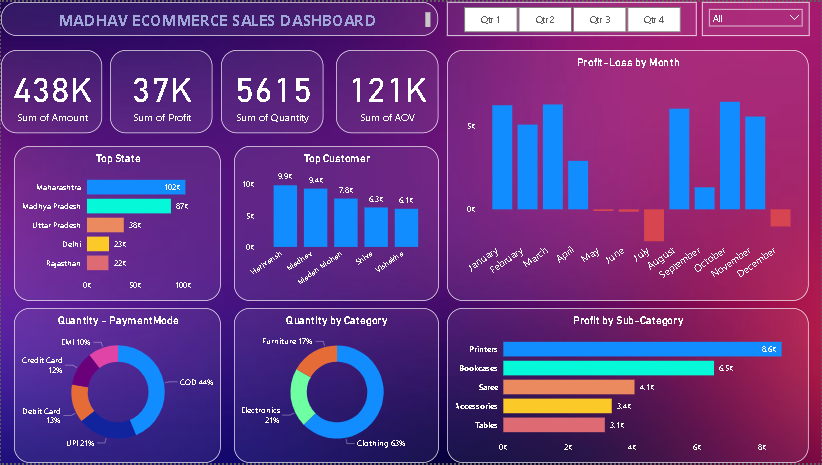

This screenshot's page, from the dashboard's own definition file:
{"tool":"powerbi","page":{"name":"Page 1","canvas":[1280,720],"ordinal":0},"visuals":[{"type":"textbox","box":[0,0,682.5,52.5],"z":1},{"type":"columnChart","title":"Profit-Loss by Month","fields":{"Category":["Orders.Order Date.Variation.Date Hierarchy.Month"],"Y":["Details.Profit"]},"box":[696.7,75,565,391.7],"z":2},{"type":"barChart","fields":{"Category":["Details.Sub-Category"],"Y":["Details.Profit"]},"box":[696.7,478.3,565,241.7],"z":3},{"type":"donutChart","fields":{"Category":["Details.Category"],"Y":["Details.Quantity"]},"box":[363.3,478.3,320,241.7],"z":4},{"type":"donutChart","fields":{"Y":["Details.Quantity"],"Category":["Details.PaymentMode"]},"box":[20,478.3,323.3,241.7],"z":5},{"type":"card","fields":{"Values":["Details.Amount"]},"box":[0,75,157.5,130],"z":6},{"type":"card","fields":{"Values":["Details.AOV"]},"box":[523.3,75,160,130],"z":7},{"type":"card","fields":{"Values":["Details.Profit"]},"box":[170,75,160,130],"z":8},{"type":"card","fields":{"Values":["Details.Quantity"]},"box":[343.3,75,160,130],"z":9},{"type":"barChart","fields":{"Category":["Orders.State"],"Y":["Details.Amount"]},"box":[20,225,323.3,241.7],"z":10},{"type":"columnChart","fields":{"Category":["Orders.CustomerName"],"Y":["Details.Amount"]},"box":[363.3,225,320,241.7],"z":11},{"type":"slicer","fields":{"Values":["Orders.Order Date.Variation.Date Hierarchy.Quarter"]},"box":[697.1,0,390,52.9],"z":12},{"type":"slicer","fields":{"Values":["Orders.State"]},"box":[1095,0,167.5,52.5],"z":13}]}

Visuals, with their boxes in screenshot pixels (x1, y1, x2, y2), scaled from the page's 1280x720 canvas onto the 822x465 screenshot:
textbox: l=0, t=0, r=438, b=34
"Profit-Loss by Month" columnChart: l=447, t=48, r=810, b=301
barChart - Details.Sub-Category x Details.Profit: l=447, t=309, r=810, b=464
donutChart - Details.Category x Details.Quantity: l=233, t=309, r=439, b=464
donutChart - Details.Quantity x Details.PaymentMode: l=13, t=309, r=220, b=464
card - Details.Amount: l=0, t=48, r=101, b=132
card - Details.AOV: l=336, t=48, r=439, b=132
card - Details.Profit: l=109, t=48, r=212, b=132
card - Details.Quantity: l=220, t=48, r=323, b=132
barChart - Orders.State x Details.Amount: l=13, t=145, r=220, b=301
columnChart - Orders.CustomerName x Details.Amount: l=233, t=145, r=439, b=301
slicer - Orders.Order Date.Variation.Date Hierarchy.Quarter: l=448, t=0, r=698, b=34
slicer - Orders.State: l=703, t=0, r=811, b=34
